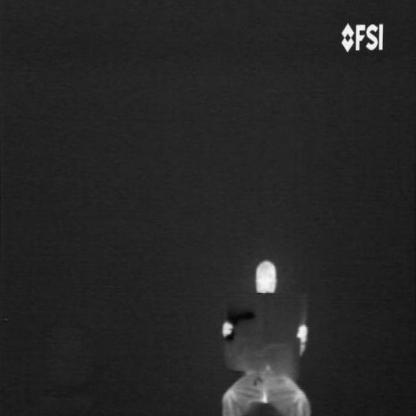weapon: (225, 306, 258, 346)
